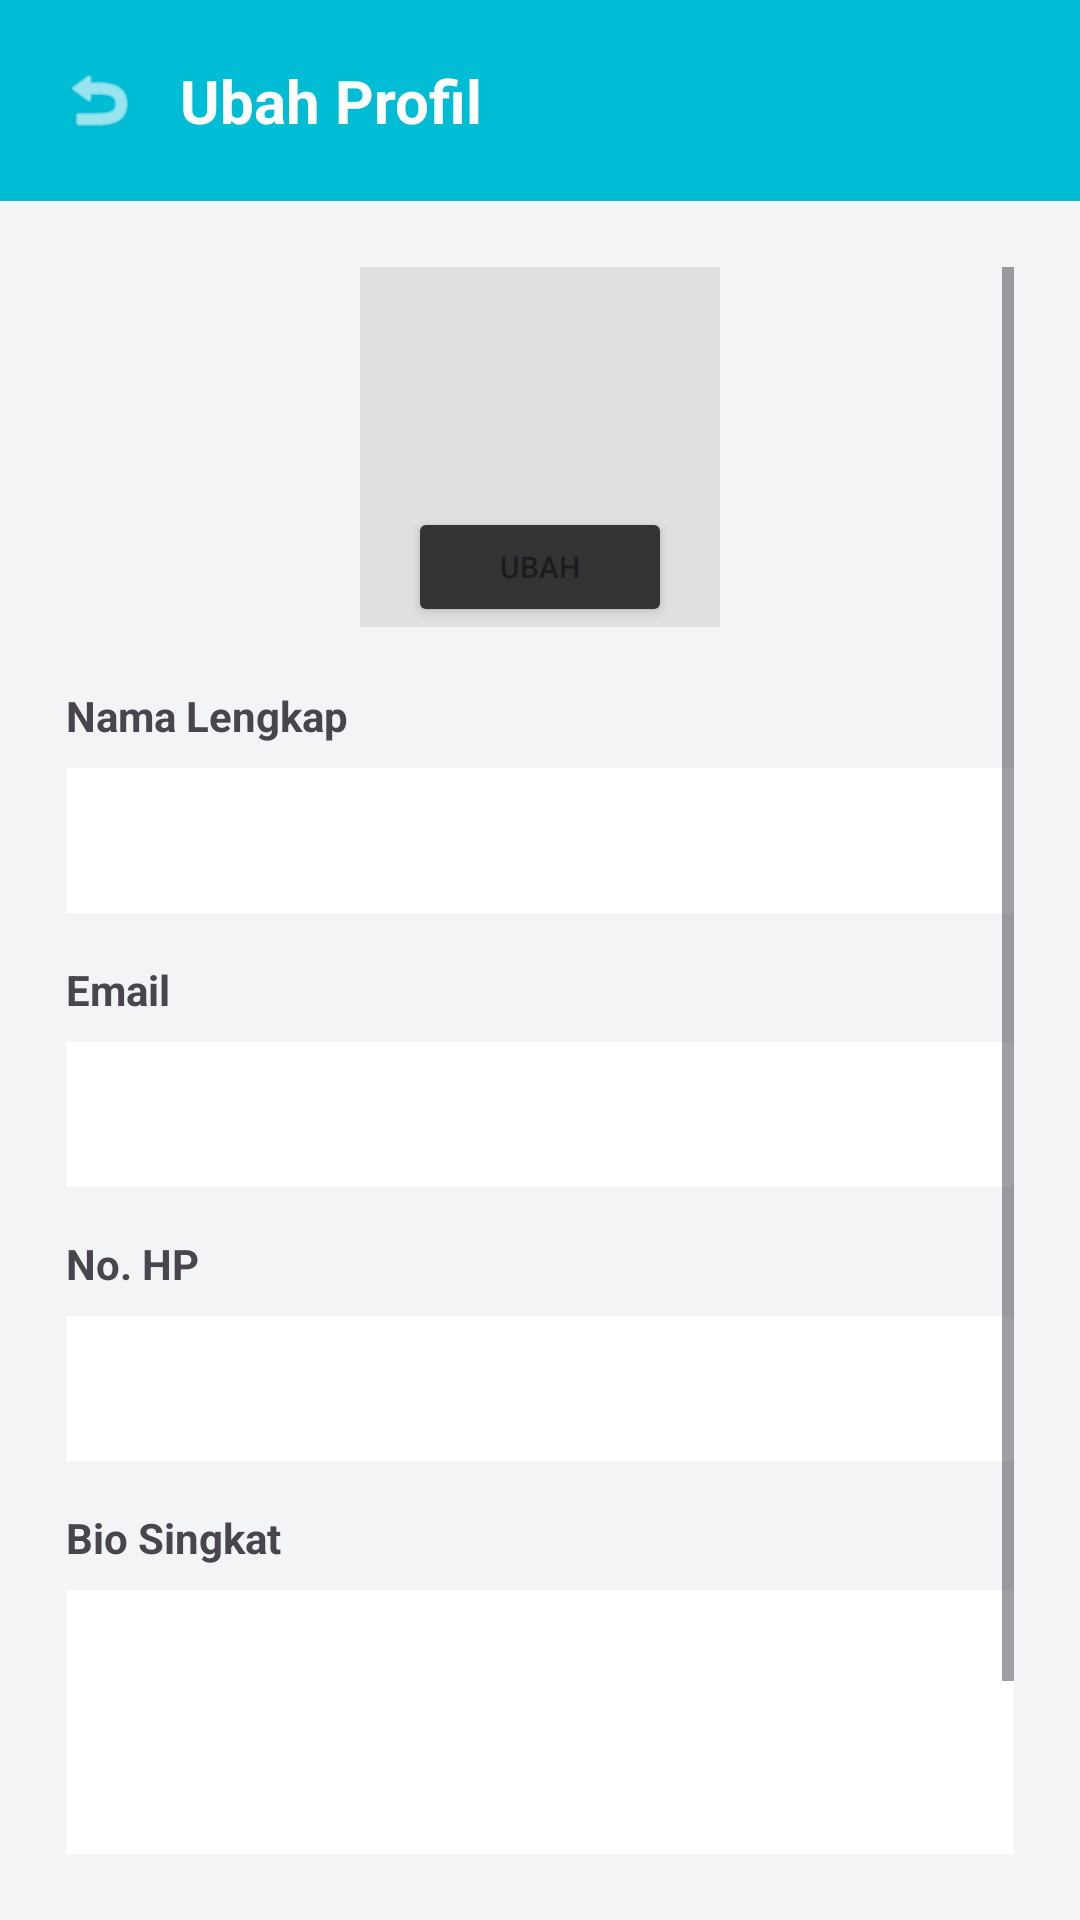

Icon bounding boxes for this 1080×1920 phone screenshot, format [x1, y1, x2, y2]:
revert: [72, 75, 128, 126]
